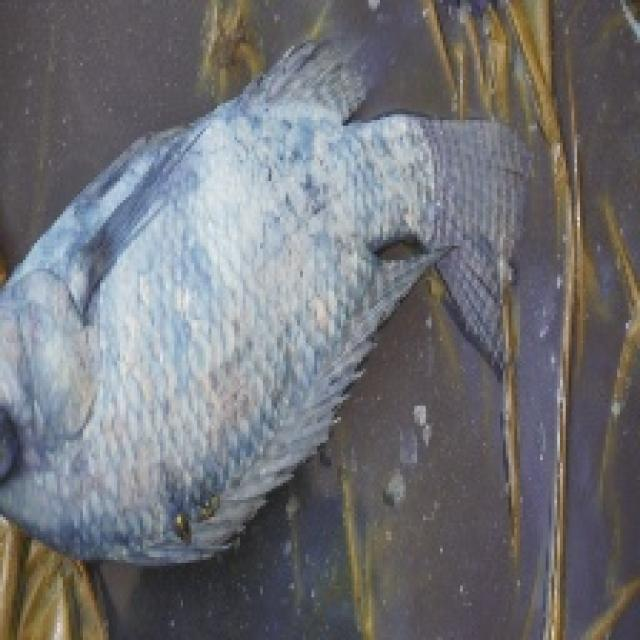Non-Fresh: (14, 113, 444, 552)
